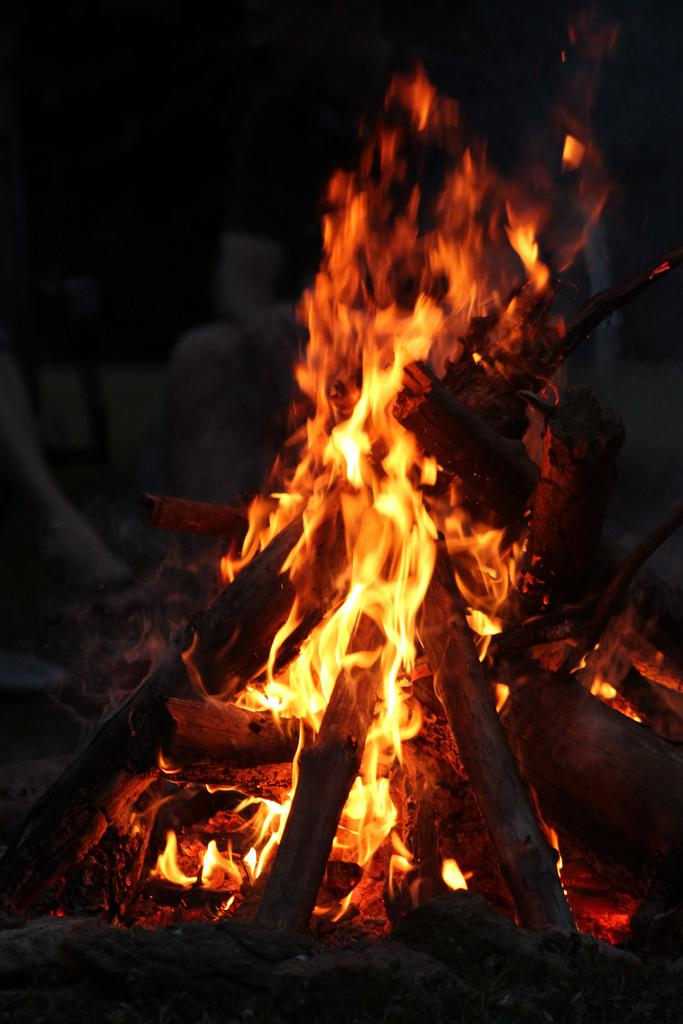fire: (255, 450, 432, 840), (322, 228, 488, 425)
